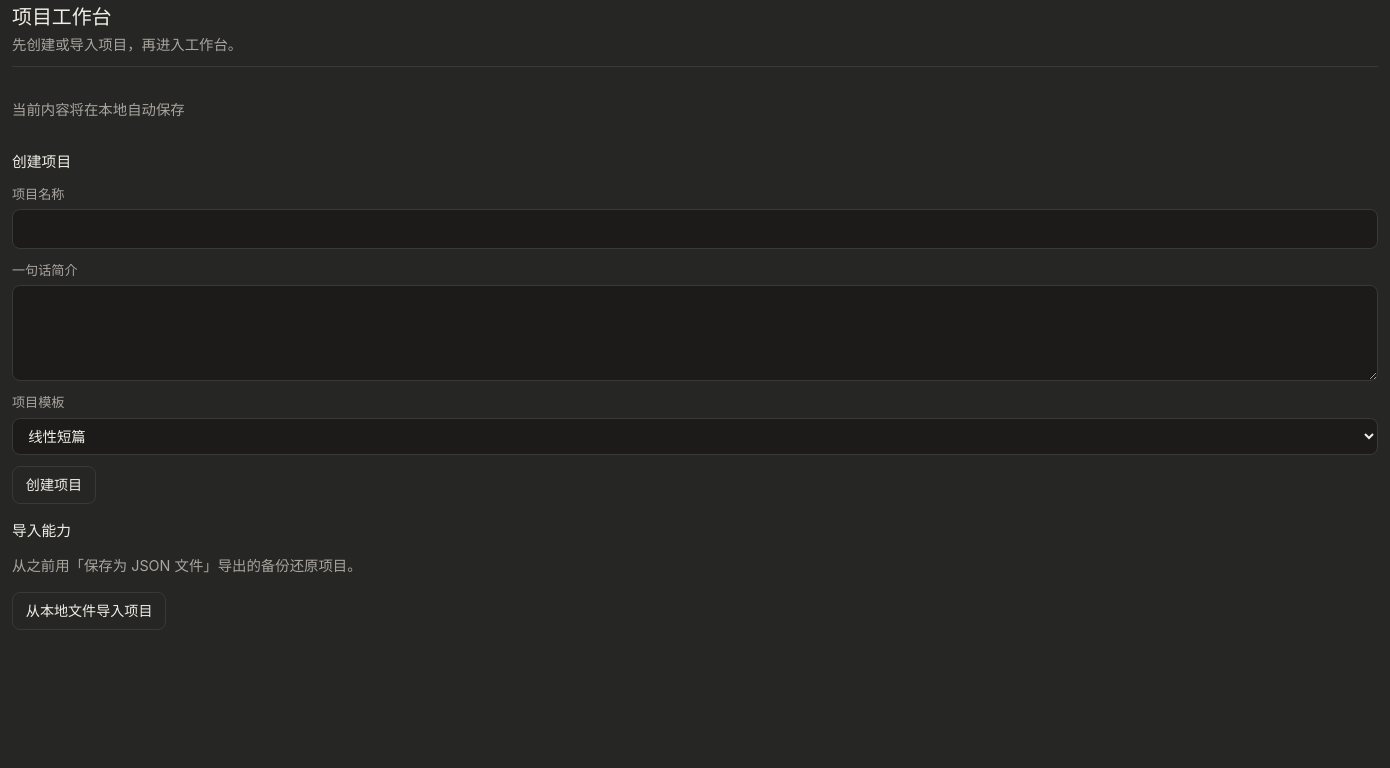
Test: ProjectHomePage › 允许创建多结局模板并初始化结局结构
Step 1. Type "雨夜回响" into the field labelled "项目名称" → coordinates (695, 229), box x1=12 y1=209 x2=1378 y2=249
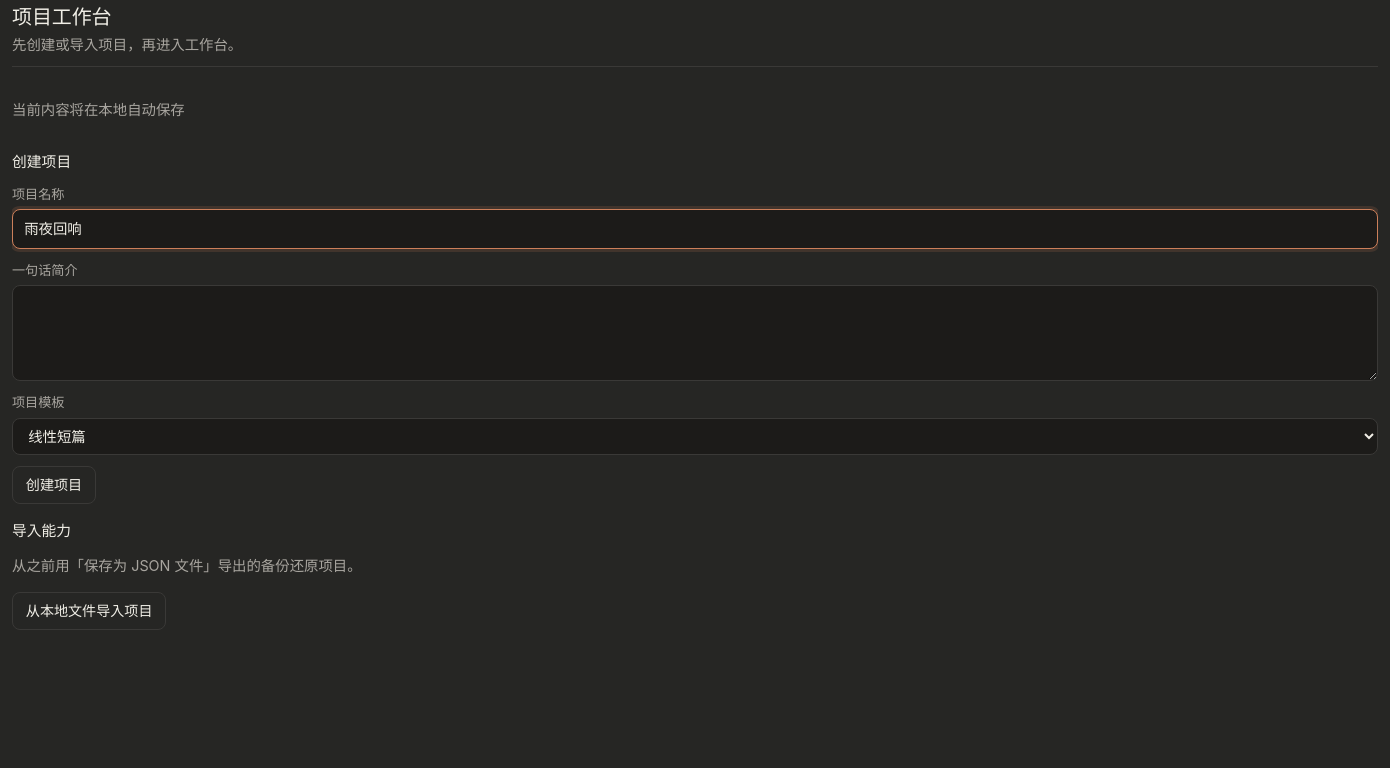
Step 2. Type "一段校园悬疑故事" into the text box labelled "一句话简介" → coordinates (695, 333), box x1=12 y1=285 x2=1378 y2=381
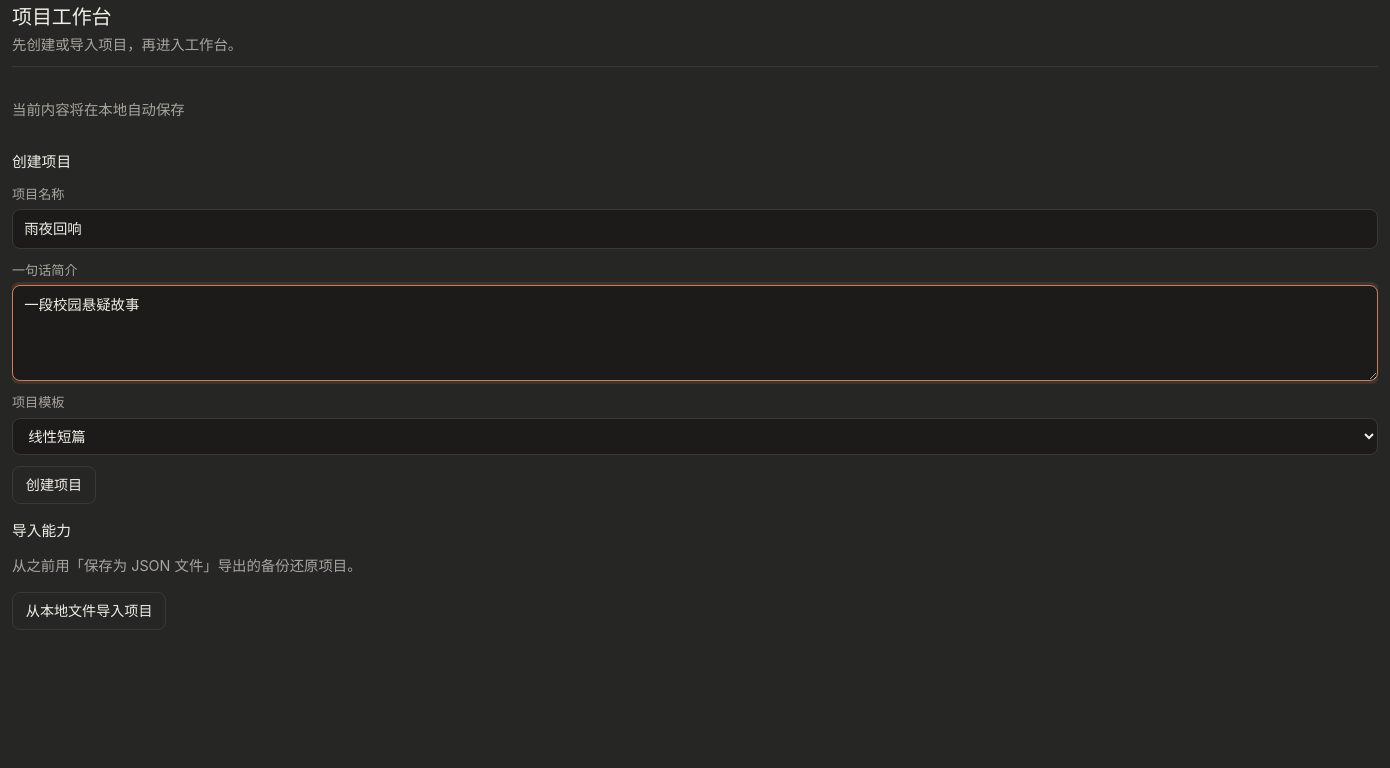
Step 3. Select "多结局" in the dropdown labelled "项目模板" → coordinates (695, 436), box x1=12 y1=418 x2=1378 y2=455
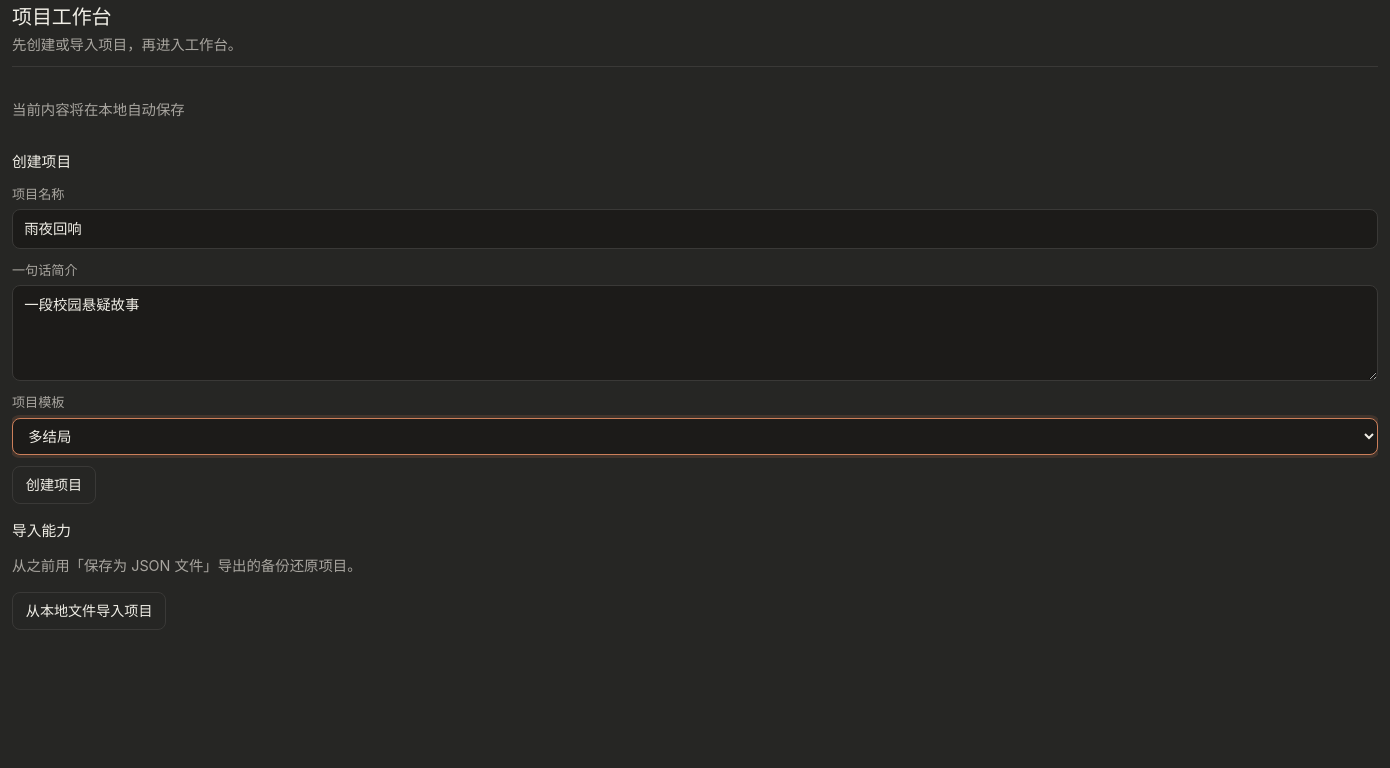
Step 4. Click the button "创建项目" → coordinates (54, 485), box x1=12 y1=466 x2=96 y2=504
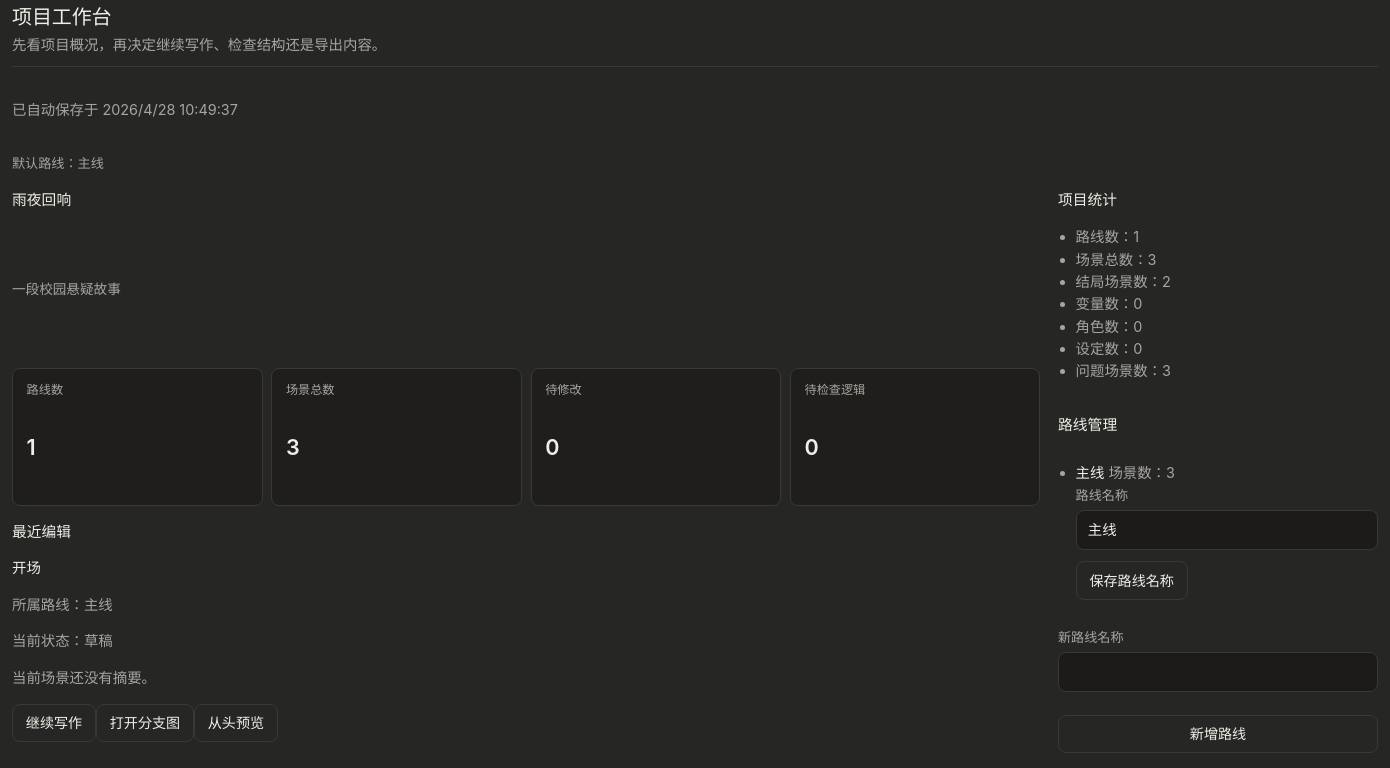
Now the text "主线" is shown, box x1=1076 y1=464 x2=1104 y2=482
Now the text "场景数：3" is shown, box x1=1104 y1=464 x2=1175 y2=482
Now the list item "结局场景数：2" is shown, box x1=1076 y1=273 x2=1171 y2=290
